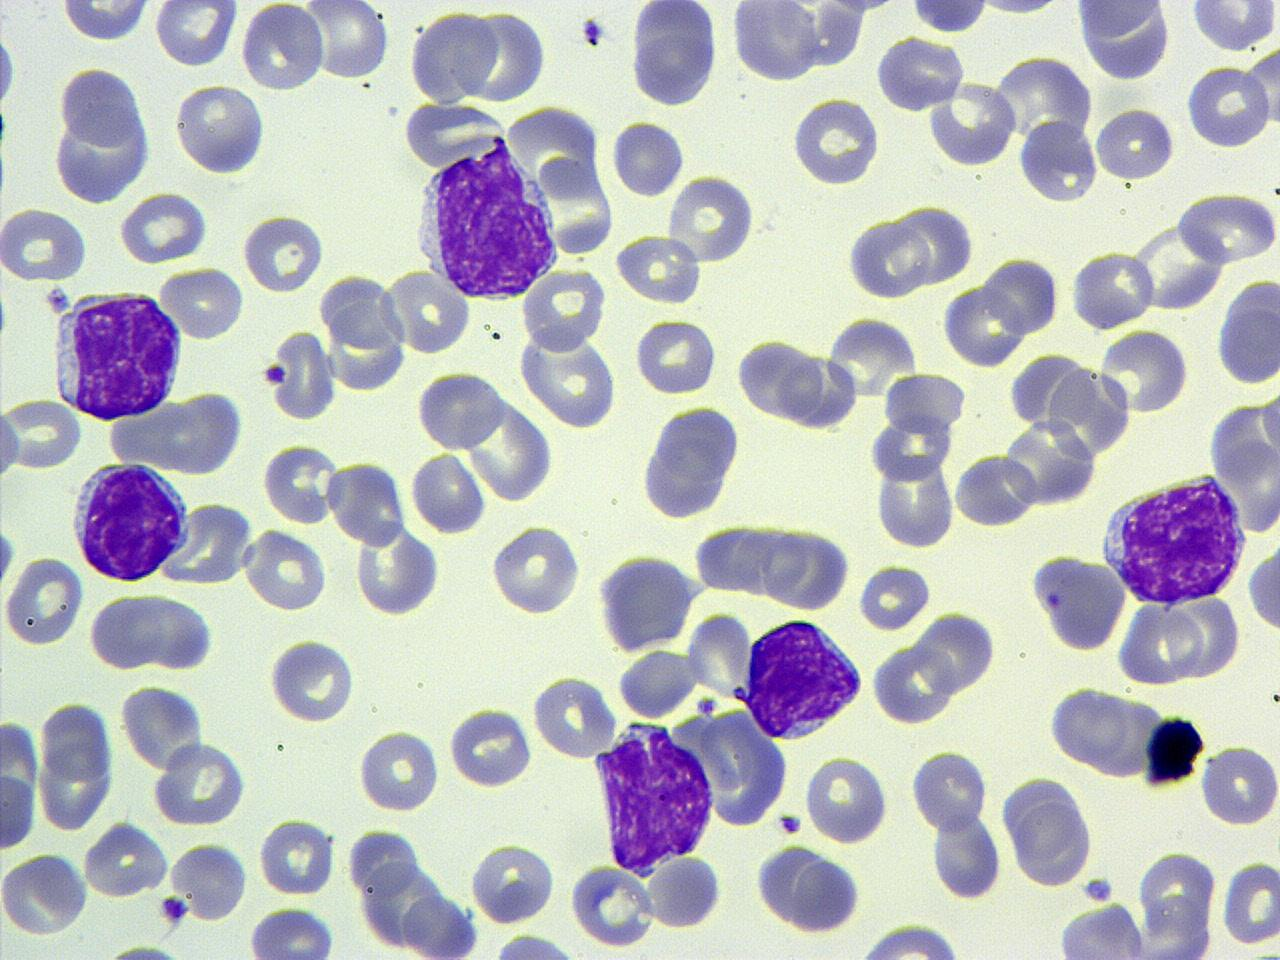Platelets: (855, 562, 935, 630), (1058, 902, 1146, 958), (1142, 712, 1206, 786), (109, 940, 178, 960), (0, 30, 17, 112), (0, 522, 18, 590), (159, 892, 190, 924), (1081, 874, 1115, 904), (44, 284, 72, 316), (0, 288, 14, 346), (582, 16, 606, 49), (263, 360, 289, 388), (775, 811, 803, 837), (0, 108, 12, 148)
RBC: (694, 708, 792, 830), (594, 548, 702, 654), (1205, 385, 1280, 537), (1027, 551, 1129, 653), (518, 325, 618, 429), (628, 0, 718, 109), (467, 396, 554, 504), (408, 5, 499, 108), (488, 520, 582, 616), (174, 82, 266, 177), (150, 739, 248, 829), (788, 94, 882, 187), (461, 6, 547, 106), (1098, 325, 1190, 417), (1132, 219, 1224, 312), (118, 680, 209, 772), (666, 171, 756, 265), (353, 522, 440, 618), (873, 450, 956, 550), (868, 636, 958, 728), (1010, 792, 1094, 890), (1073, 0, 1173, 83), (380, 266, 472, 356), (802, 753, 890, 847), (1046, 682, 1136, 772), (1115, 596, 1203, 688), (530, 670, 618, 761), (728, 2, 826, 83), (1183, 61, 1273, 149), (267, 635, 357, 724), (926, 78, 1014, 168), (1174, 190, 1278, 266), (468, 839, 559, 926), (239, 0, 325, 93), (355, 725, 440, 815), (916, 604, 1000, 696), (520, 266, 608, 353), (0, 850, 87, 938), (242, 526, 330, 613), (155, 390, 244, 476), (3, 554, 83, 648), (36, 732, 112, 832), (398, 100, 508, 168), (568, 862, 656, 948), (766, 523, 849, 613), (414, 367, 504, 450), (736, 334, 820, 421), (446, 704, 534, 788), (1018, 115, 1100, 205), (876, 32, 968, 112), (1215, 275, 1280, 388), (952, 446, 1038, 530), (940, 283, 1025, 369), (632, 314, 720, 396), (1069, 248, 1155, 332), (242, 210, 326, 295), (846, 215, 928, 302), (83, 817, 169, 899), (328, 456, 407, 546), (896, 197, 974, 288), (0, 204, 89, 283), (910, 744, 988, 834), (260, 440, 340, 526), (117, 189, 208, 264), (1200, 741, 1278, 829), (157, 263, 246, 340), (1166, 592, 1242, 682), (306, 0, 390, 80), (408, 450, 487, 534), (614, 231, 702, 306), (258, 814, 336, 898), (982, 254, 1058, 340), (39, 699, 114, 786), (930, 810, 1002, 899), (134, 592, 216, 671), (691, 520, 776, 596), (171, 840, 249, 922), (1094, 104, 1176, 181), (2, 394, 83, 472), (88, 591, 163, 673), (271, 330, 338, 422), (684, 610, 754, 698), (616, 646, 696, 722), (610, 117, 684, 198), (154, 0, 238, 70), (645, 853, 721, 930), (1219, 856, 1279, 949), (856, 561, 934, 631), (401, 890, 480, 960), (245, 903, 338, 959), (1055, 902, 1145, 959), (1140, 712, 1204, 790), (844, 921, 972, 958), (1190, 0, 1276, 54), (58, 0, 154, 43), (1246, 530, 1280, 646), (1242, 45, 1280, 132), (0, 768, 37, 850), (906, 0, 992, 35), (484, 931, 583, 960), (970, 0, 1071, 20)
WBC: (413, 134, 562, 303), (1100, 470, 1250, 608), (591, 719, 718, 877), (51, 287, 185, 424), (740, 613, 868, 743), (68, 458, 195, 586), (51, 61, 157, 204), (638, 401, 744, 521), (592, 546, 703, 655), (1000, 774, 1096, 892), (700, 704, 792, 826), (1028, 547, 1130, 655), (628, 0, 724, 112), (752, 842, 866, 934), (491, 520, 587, 620), (790, 93, 888, 189), (176, 81, 271, 176), (728, 1, 833, 84), (1072, 0, 1176, 82), (156, 742, 253, 826), (403, 102, 512, 170), (874, 34, 968, 112), (1215, 275, 1279, 389), (838, 920, 972, 959), (472, 928, 590, 958), (906, 0, 994, 34)
